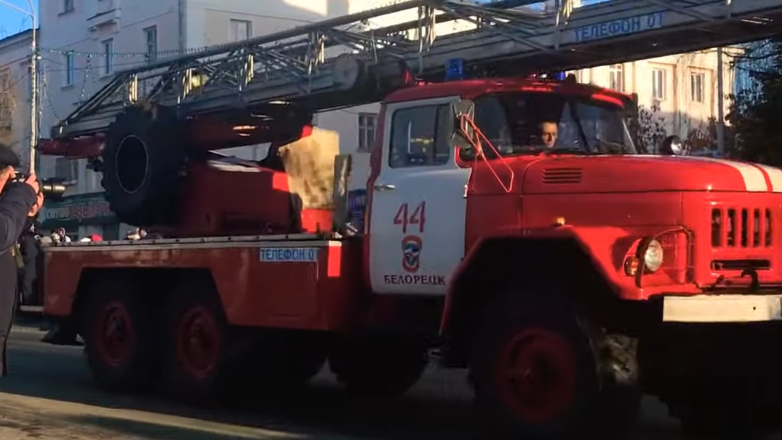fire fighting vehicle: (39, 2, 779, 436)
